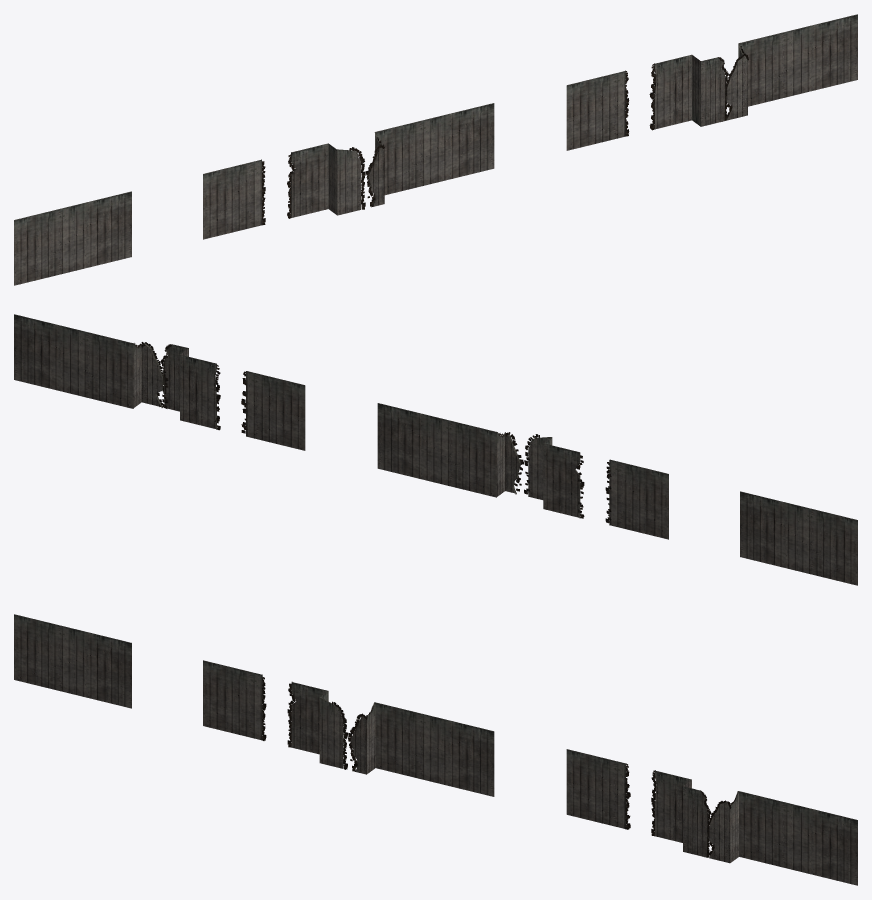
File: Prop_wooden_panel.fbx
3 views of the same model, one above another, from view 1: azimuth 30°, elevation 25°; view 2: azimuth 150°, elevation 25°; view 3: azimuth 330°, elevation 25° (orthographic).
Visible parts, largest first — view 1: Cylinder_041; view 2: Cylinder_041; view 3: Cylinder_041.
Boxes of the visible parts, x1,y1,x2,y2 form: Cylinder_041: [14, 14, 857, 285]; Cylinder_041: [14, 314, 857, 585]; Cylinder_041: [14, 614, 857, 885].
Size of the model in its own units: 69.88 by 5.29 by 1.62.
